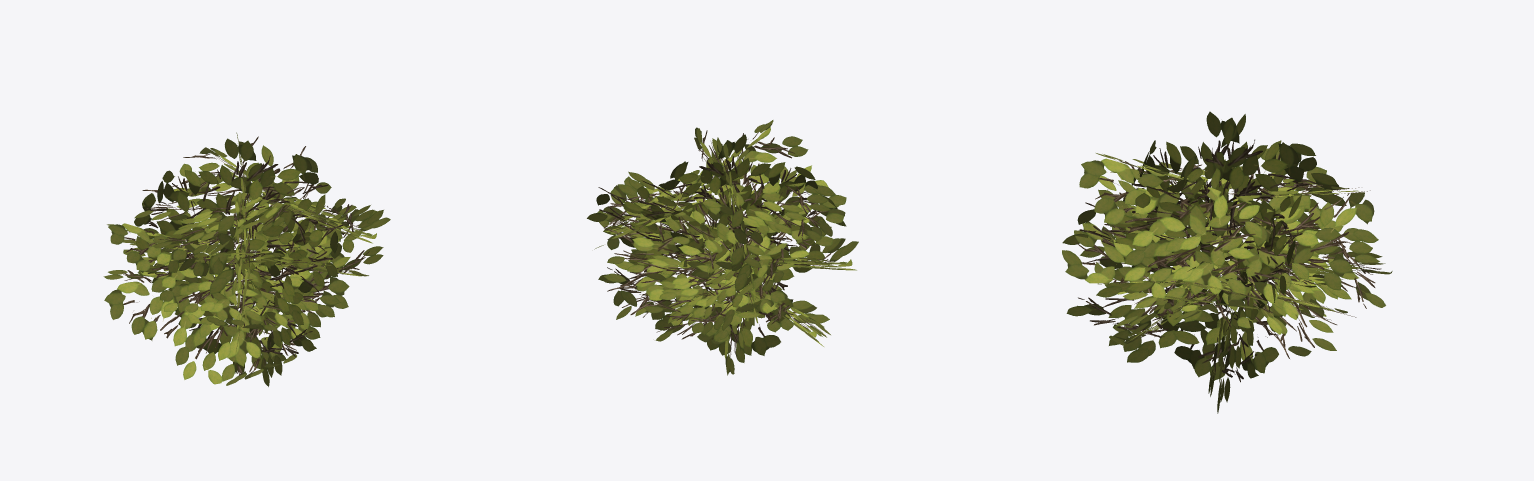
Rendered from Bush01.fbx.
3 renders of one model, left to right at view 1: azimuth 30°, elevation 25°; view 2: azimuth 150°, elevation 25°; view 3: azimuth 270°, elevation 25°, orthographic. The views are drawn at different scales.
Parts seen in each view (by area): view 1: Bush01; view 2: Bush01; view 3: Bush01.
Part boxes in pixels (<box>): Bush01: <box>103,132,390,386</box>; Bush01: <box>587,120,858,375</box>; Bush01: <box>1062,111,1392,413</box>.
Bounding box in the file's own units: 291 × 256 × 285.
